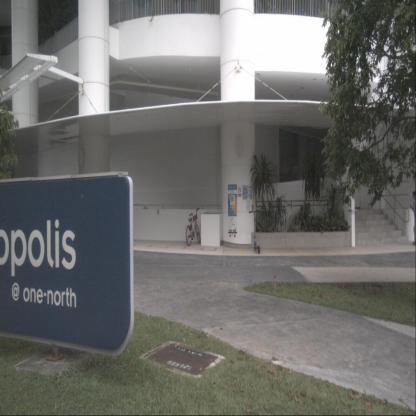human-pedestrian-adult: (409, 190, 416, 245)
vehicle-bicycle: (186, 206, 201, 247)
